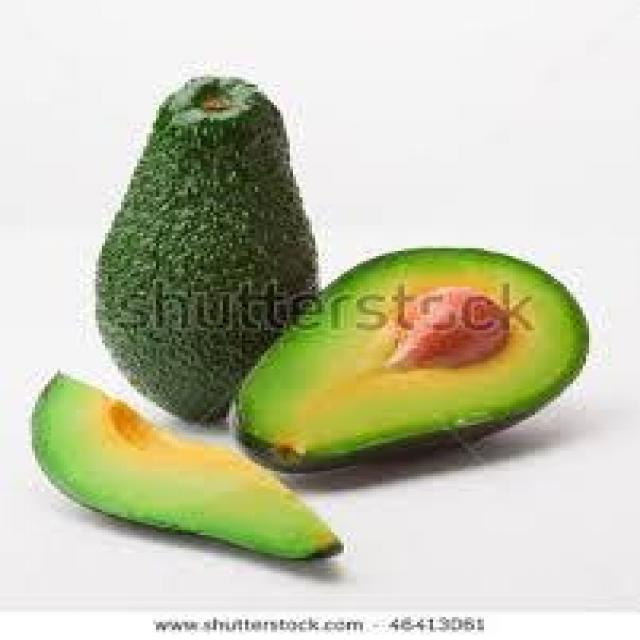organic waste: (220, 243, 589, 474), (89, 74, 319, 440), (25, 366, 344, 563)
